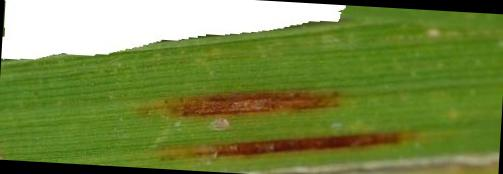leaf_smut: (142, 80, 425, 165)
